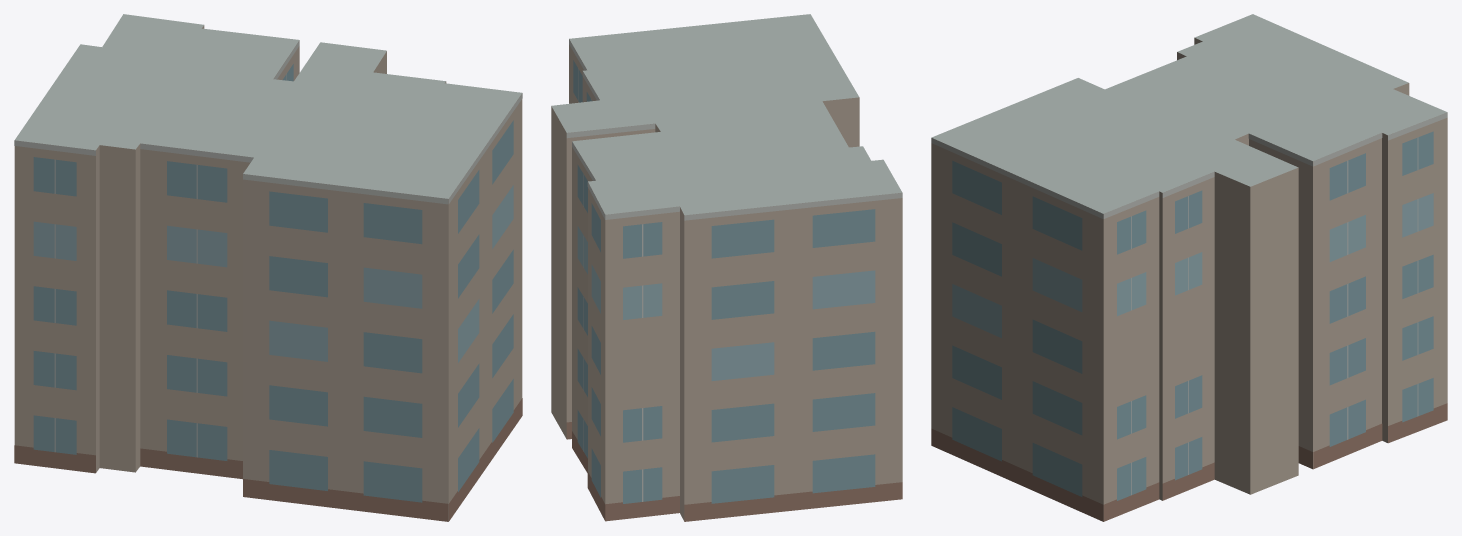
File: survey-upis-32607779.glb
3 views of the same model, side by side, from view 1: azimuth 30°, elevation 25°; view 2: azimuth 150°, elevation 25°; view 3: azimuth 270°, elevation 25° (orthographic). The views are drawn at different scales.
Visible parts, largest first — view 1: survey-upis-32607779.tmp; view 2: survey-upis-32607779.tmp; view 3: survey-upis-32607779.tmp.
Part boxes in pixels (left/top/right/bottom): survey-upis-32607779.tmp: left=14, top=14, right=522, bottom=521; survey-upis-32607779.tmp: left=551, top=14, right=902, bottom=521; survey-upis-32607779.tmp: left=931, top=14, right=1447, bottom=521.
Bounding box in the file's own units: 19.64 × 14.1 × 21.43.
